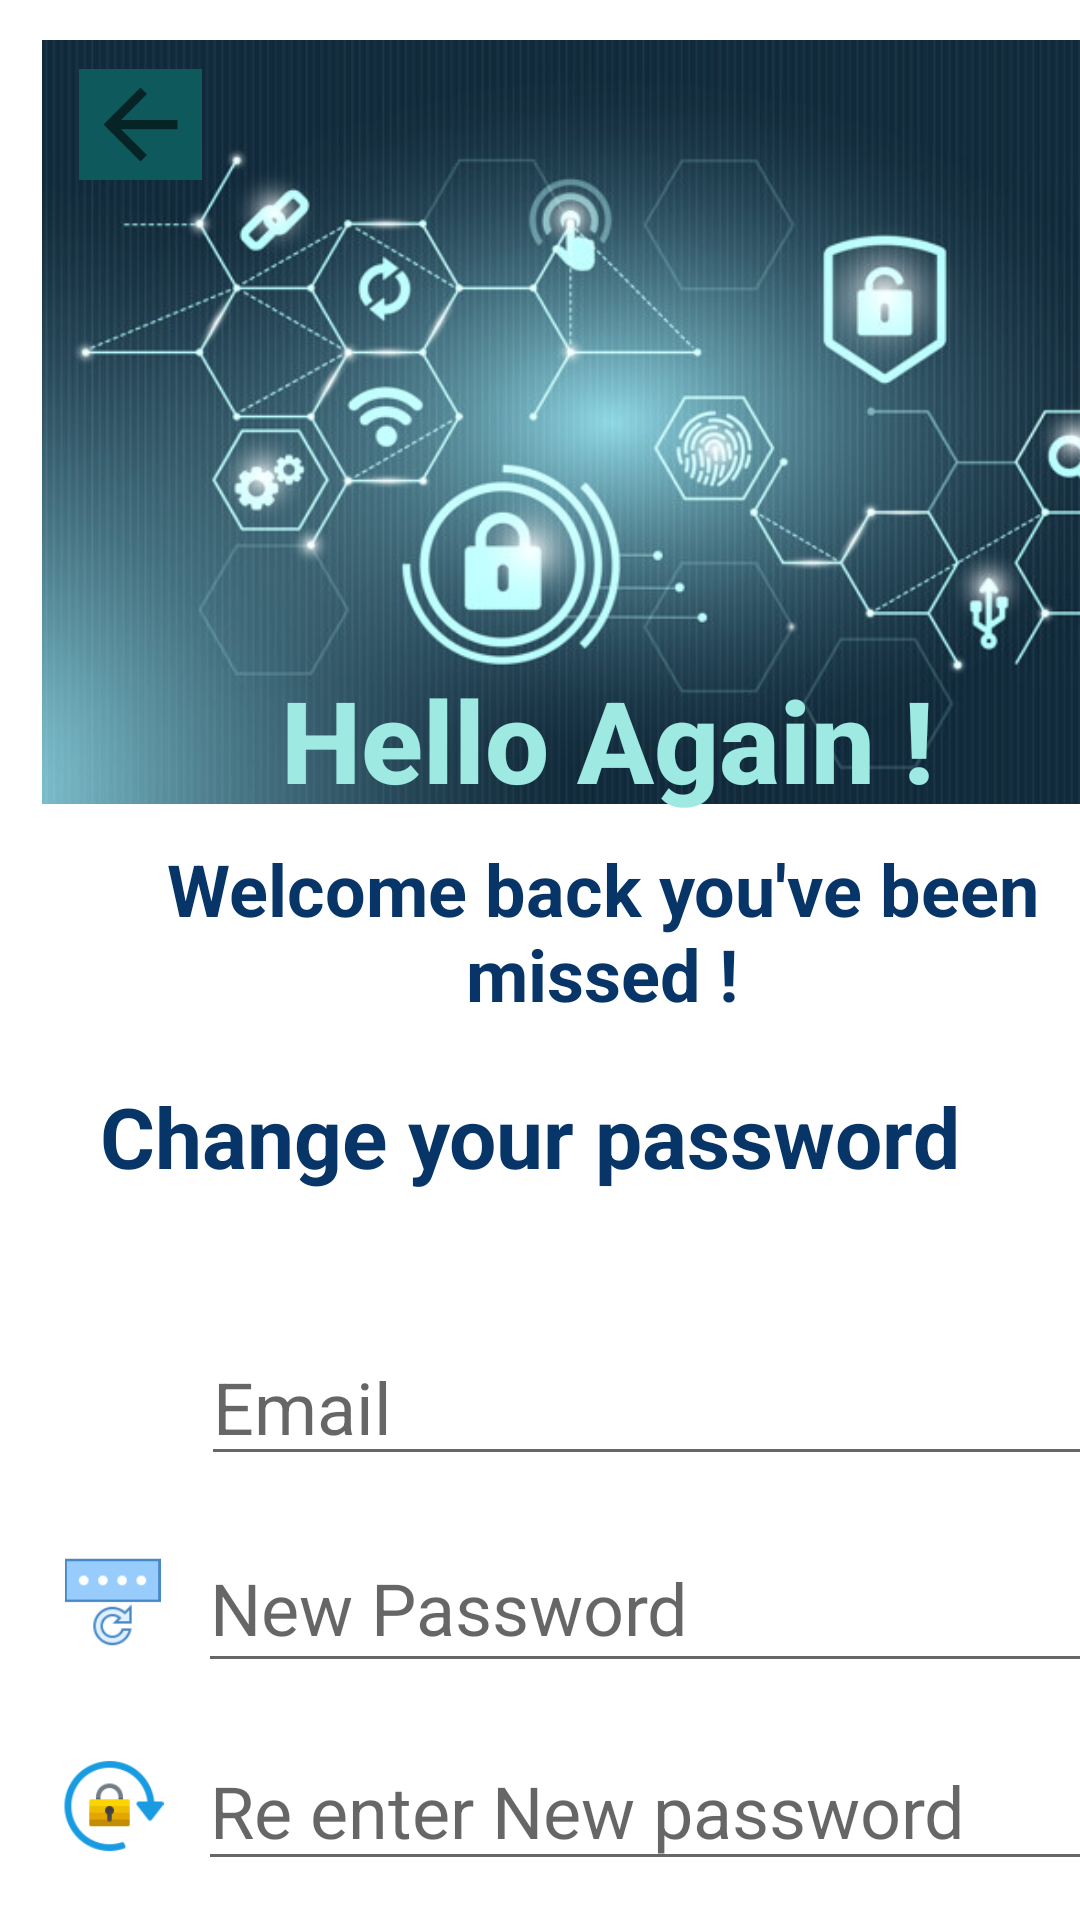

Named icons in this screenshot (1080x1920) and their centers, point (x, y):
lock orientation: point (114, 1806)
password reset: point (113, 1602)
